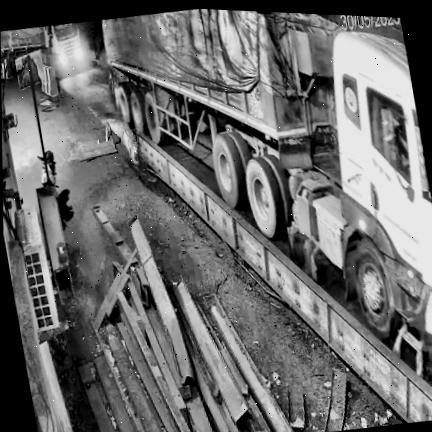tyre: (346, 238, 399, 340), (246, 157, 285, 238), (213, 134, 247, 208), (264, 155, 293, 226), (144, 92, 162, 144), (229, 131, 252, 170), (114, 84, 134, 127), (130, 87, 148, 134)
